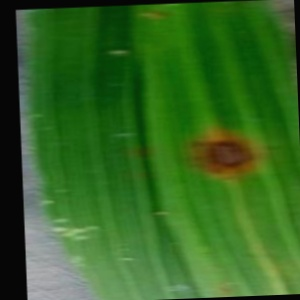Bacterial_Leaf_Blight: (184, 128, 263, 185)
